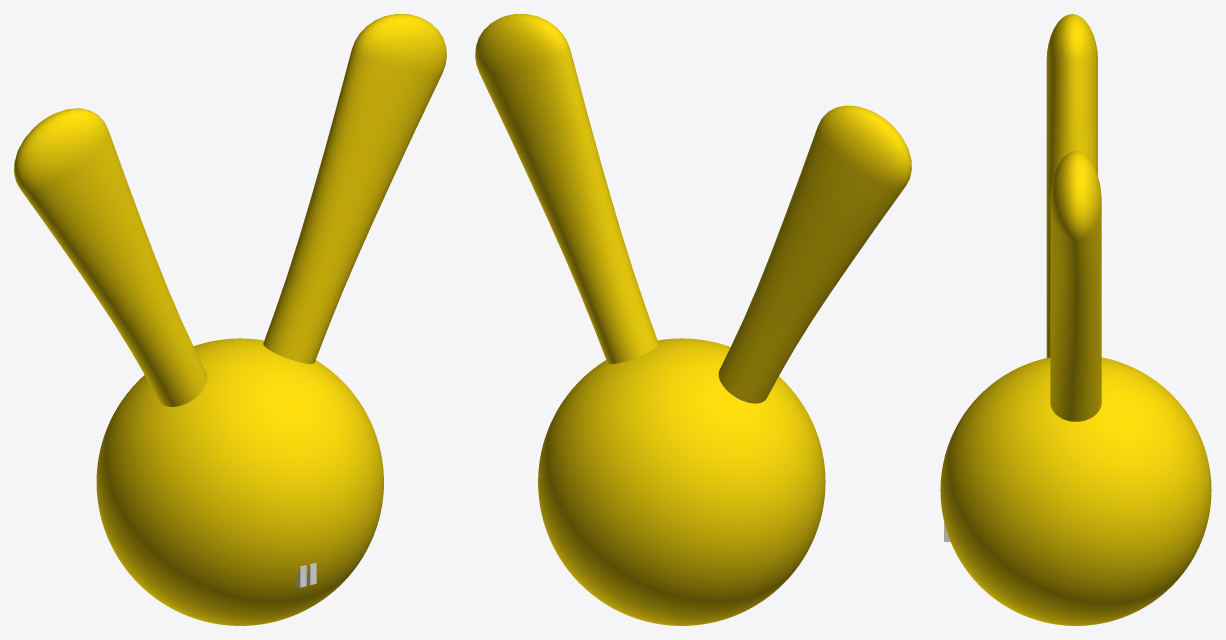
The model's file is TA101_可爱兔头.fbx.
The picture shows the model from 3 angles, left to right: view 1: azimuth 30°, elevation 25°; view 2: azimuth 150°, elevation 25°; view 3: azimuth 270°, elevation 25°; orthographic projection. The views are drawn at different scales.
Visible parts, largest first — view 1: Sphere, Capsule, Capsule_3; view 2: Sphere, Capsule, Capsule_3; view 3: Sphere, Capsule, Capsule_3.
Part boxes in pixels (bbox=[...]): Sphere: bbox=[96, 338, 383, 625]; Capsule: bbox=[263, 14, 446, 363]; Capsule_3: bbox=[14, 108, 207, 406]; Sphere: bbox=[538, 338, 825, 625]; Capsule: bbox=[475, 14, 658, 363]; Capsule_3: bbox=[718, 105, 911, 403]; Sphere: bbox=[940, 357, 1211, 625]; Capsule: bbox=[1050, 151, 1101, 421]; Capsule_3: bbox=[1046, 14, 1097, 357].
Size of the model in its own units: 346 by 429 by 200.
